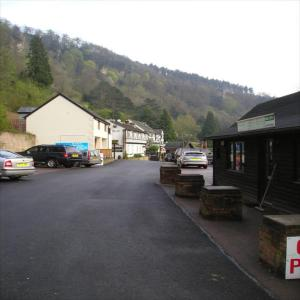Vehicle-registration-plate: (17, 163, 31, 166)
